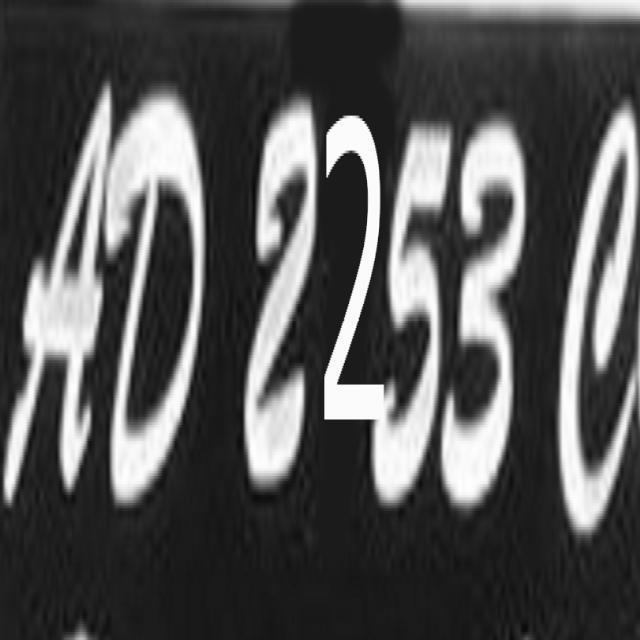2: (238, 83, 314, 494), (333, 87, 373, 443)
3: (446, 110, 560, 524)
5: (393, 116, 433, 507)
A: (0, 79, 112, 508)
C: (559, 99, 640, 547)
D: (115, 84, 218, 506)
